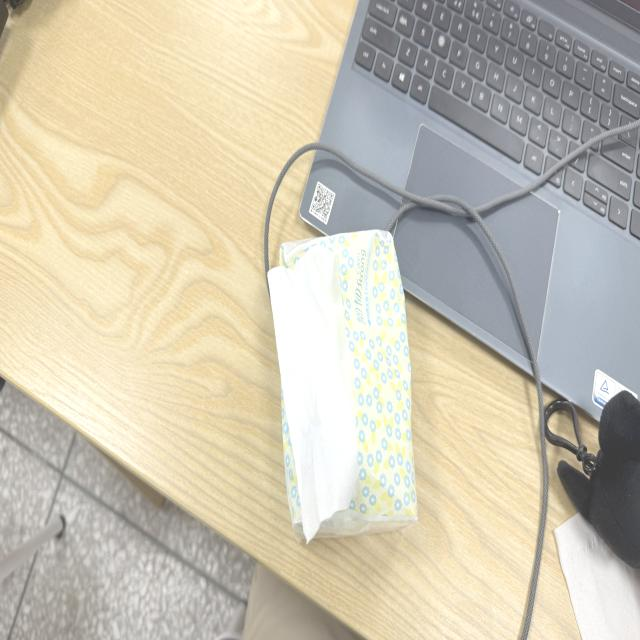tissue: (269, 231, 416, 541), (269, 246, 357, 540), (555, 514, 639, 639)
